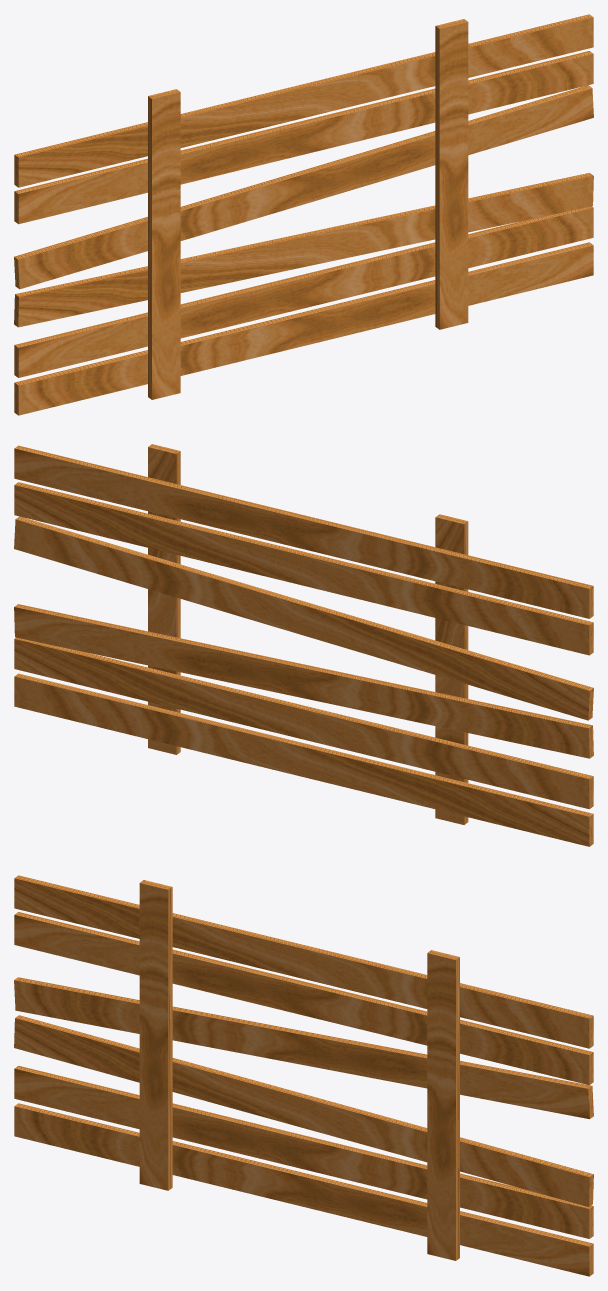
Rendered from schuttingSchuin.obj.
3 views of the same model, one above another, from view 1: azimuth 30°, elevation 25°; view 2: azimuth 150°, elevation 25°; view 3: azimuth 330°, elevation 25° (orthographic).
Parts seen in each view (by area): view 1: Cube.003_Cube.005, Cube_Cube.002, Cube.004_Cube.006, Cube.005_Cube.007, Cube.002_Cube.004, Cube.001_Cube.003, Cube.008_Cube.010, Cube.007_Cube.009; view 2: Cube.003_Cube.005, Cube.004_Cube.006, Cube_Cube.002, Cube.005_Cube.007, Cube.002_Cube.004, Cube.001_Cube.003, Cube.007_Cube.009, Cube.008_Cube.010; view 3: Cube.002_Cube.004, Cube_Cube.002, Cube.004_Cube.006, Cube.005_Cube.007, Cube.001_Cube.003, Cube.003_Cube.005, Cube.007_Cube.009, Cube.008_Cube.010.
Boxes of the visible parts, <box> form: Cube.003_Cube.005: <box>14,85,593,289</box>; Cube_Cube.002: <box>14,242,593,415</box>; Cube.004_Cube.006: <box>14,51,593,224</box>; Cube.005_Cube.007: <box>14,14,593,187</box>; Cube.002_Cube.004: <box>14,173,593,327</box>; Cube.001_Cube.003: <box>14,206,593,377</box>; Cube.008_Cube.010: <box>435,19,468,329</box>; Cube.007_Cube.009: <box>148,89,180,399</box>; Cube.003_Cube.005: <box>14,516,593,720</box>; Cube.004_Cube.006: <box>14,482,593,655</box>; Cube_Cube.002: <box>14,673,593,846</box>; Cube.005_Cube.007: <box>14,445,593,618</box>; Cube.002_Cube.004: <box>14,604,593,758</box>; Cube.001_Cube.003: <box>14,637,593,809</box>; Cube.007_Cube.009: <box>435,514,468,824</box>; Cube.008_Cube.010: <box>148,444,180,754</box>; Cube.002_Cube.004: <box>14,1015,593,1206</box>; Cube_Cube.002: <box>14,1103,593,1276</box>; Cube.004_Cube.006: <box>14,912,593,1085</box>; Cube.005_Cube.007: <box>14,875,593,1048</box>; Cube.001_Cube.003: <box>14,1065,593,1238</box>; Cube.003_Cube.005: <box>14,977,593,1119</box>; Cube.007_Cube.009: <box>139,880,172,1190</box>; Cube.008_Cube.010: <box>427,950,459,1260</box>.
Size of the model in its own units: 4 by 2 by 0.1.
8 materials, 8 textured.
